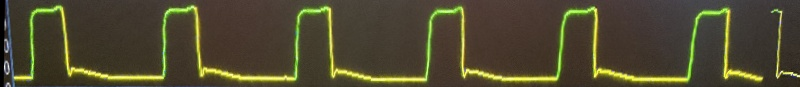normal_pressure: (14, 1, 768, 87)
